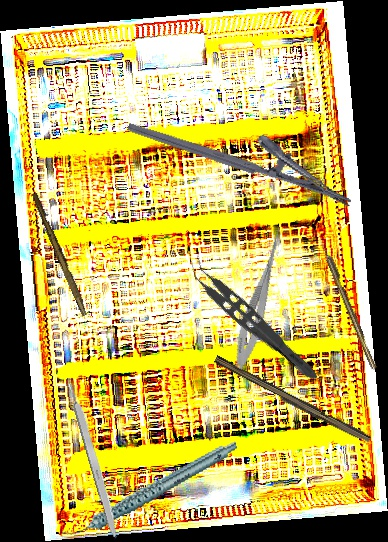Handpiece: (50, 441, 249, 540)
Hook Surgical: (317, 235, 378, 372)
Micro Scissor: (229, 225, 288, 374)
Needle Holder: (126, 91, 363, 209)
Scalpel Handle: (211, 355, 373, 446), (66, 381, 123, 542), (29, 192, 91, 317)
Tissue Forceps: (180, 253, 329, 385)
